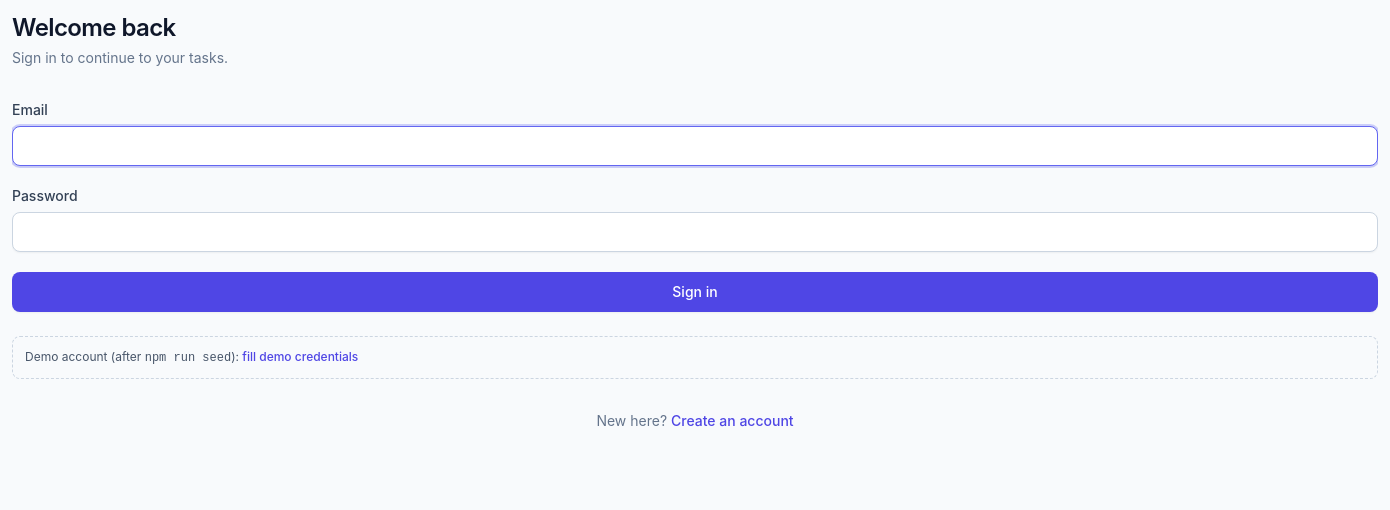
Test: LoginPage › shows the generic server error in an alert
In the field labelled "Email": [695, 146] box 12,126 -> 1378,166, type "a@example.com"
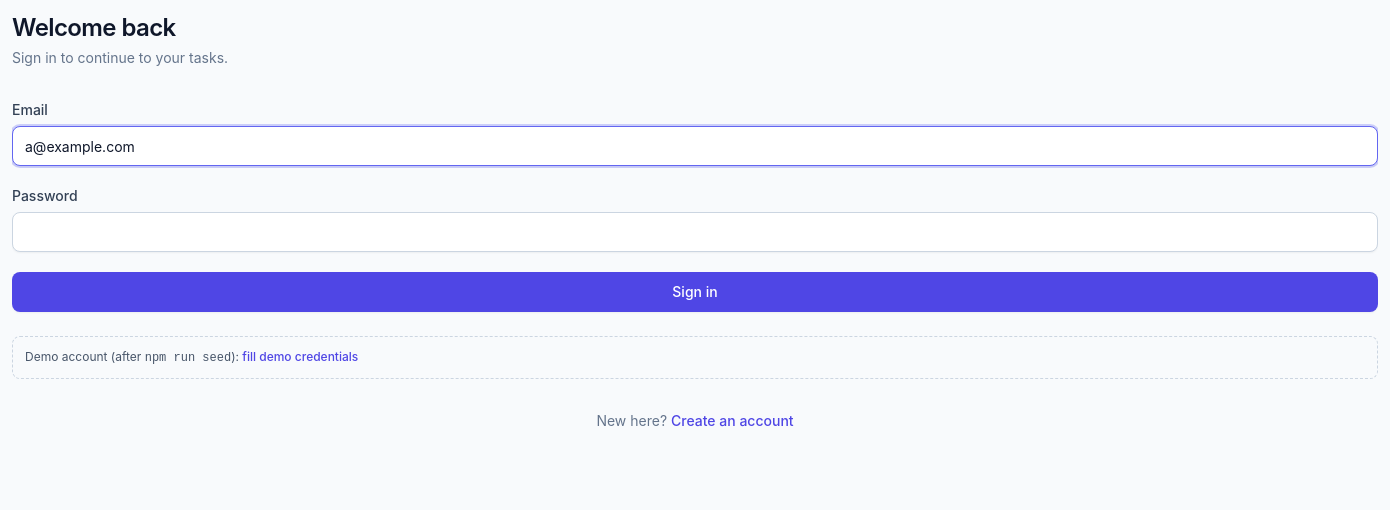
In the password field labelled "Password": [695, 232] box 12,212 -> 1378,252, type "whatever123"
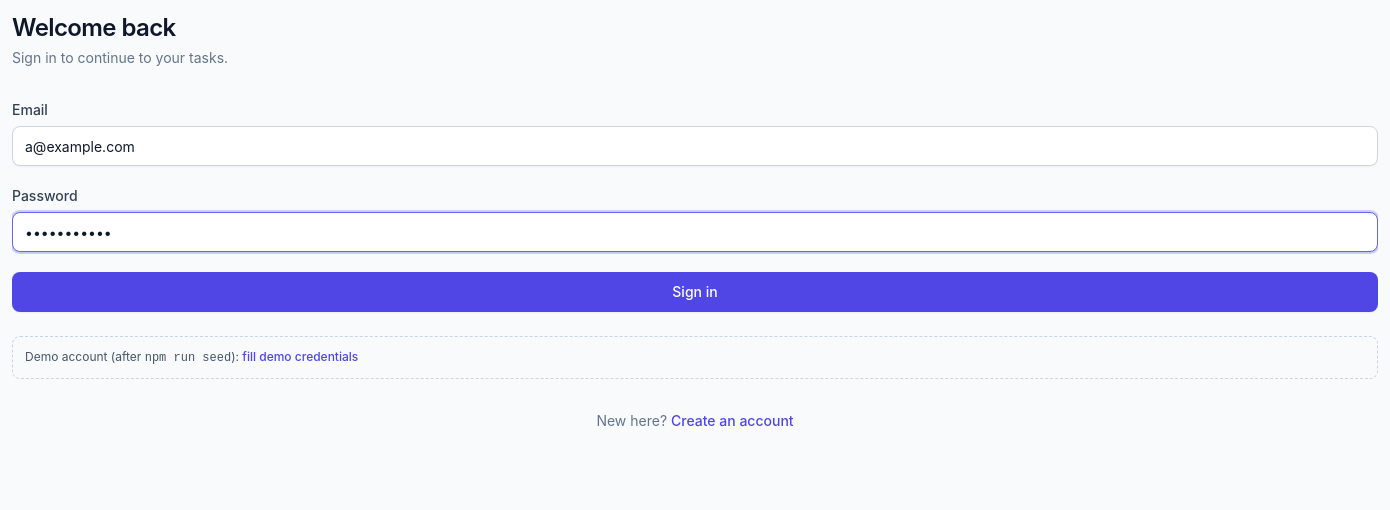
Click the button "Sign in": [695, 292] box 12,272 -> 1378,312
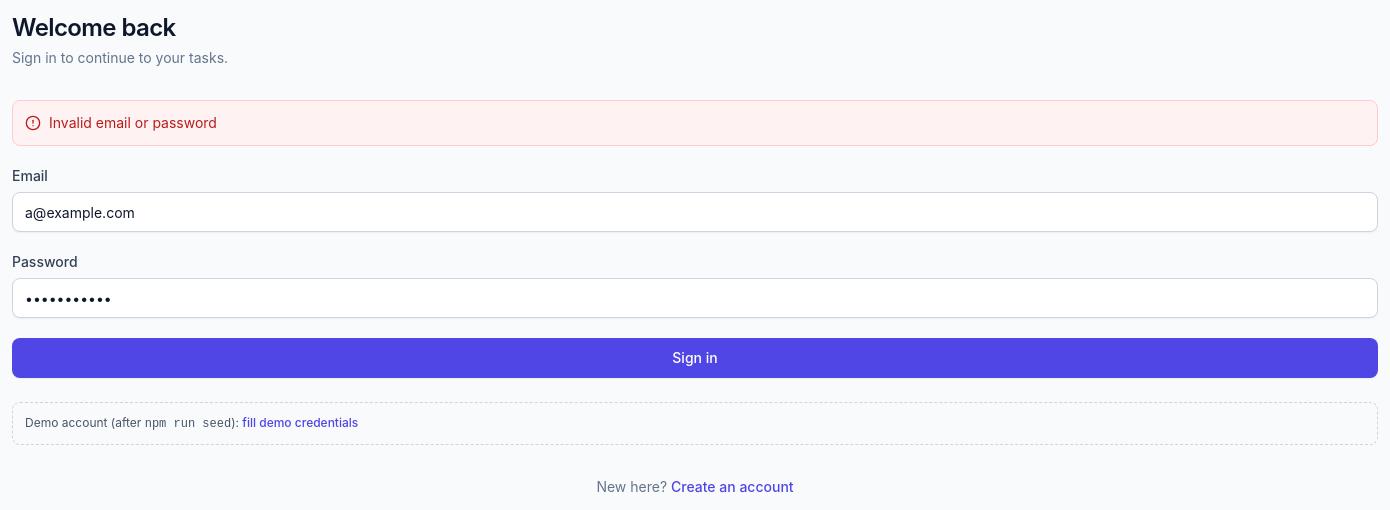
Check: the message reads "Invalid email or password", box 49,114 -> 217,131
